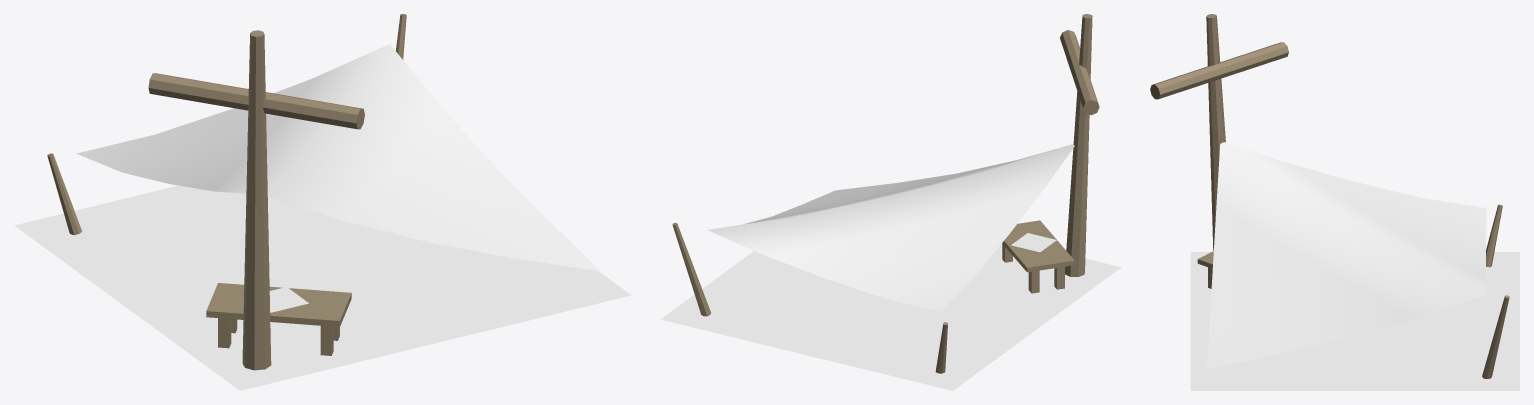
File: pavilion.fbx
3 renders of one model, left to right at view 1: azimuth 30°, elevation 25°; view 2: azimuth 150°, elevation 25°; view 3: azimuth 270°, elevation 25°, orthographic. The views are drawn at different scales.
Visible parts, largest first — view 1: Plane, Plane.001, Cylinder.001, Cylinder.003, Cube, Cylinder.002, Plane.002; view 2: Plane, Plane.001, Cylinder.001, Cube, Cylinder.003, Cylinder, Plane.002, Cylinder.002; view 3: Plane.001, Plane, Cylinder.003, Cylinder.001, Cylinder, Cylinder.002.
Part boxes in pixels (x1,y1,x2,y2): Plane: [14, 185, 631, 390]; Plane.001: [76, 44, 600, 271]; Cylinder.001: [242, 30, 271, 370]; Cylinder.003: [148, 73, 364, 129]; Cube: [206, 283, 351, 355]; Cylinder.002: [47, 153, 82, 235]; Plane.002: [269, 287, 308, 312]; Plane: [660, 243, 1121, 390]; Plane.001: [707, 144, 1074, 312]; Cylinder.001: [1065, 14, 1092, 276]; Cube: [1002, 220, 1074, 293]; Cylinder.003: [1060, 30, 1099, 115]; Cylinder: [672, 223, 710, 316]; Plane.002: [1011, 233, 1056, 252]; Cylinder.002: [935, 322, 947, 373]; Plane.001: [1207, 142, 1486, 368]; Plane: [1190, 252, 1519, 390]; Cylinder.003: [1150, 42, 1288, 99]; Cylinder.001: [1206, 14, 1225, 250]; Cylinder: [1482, 295, 1509, 378]; Cylinder.002: [1486, 204, 1502, 267].
Bounding box in the file's own units: 216 × 167 × 225.
